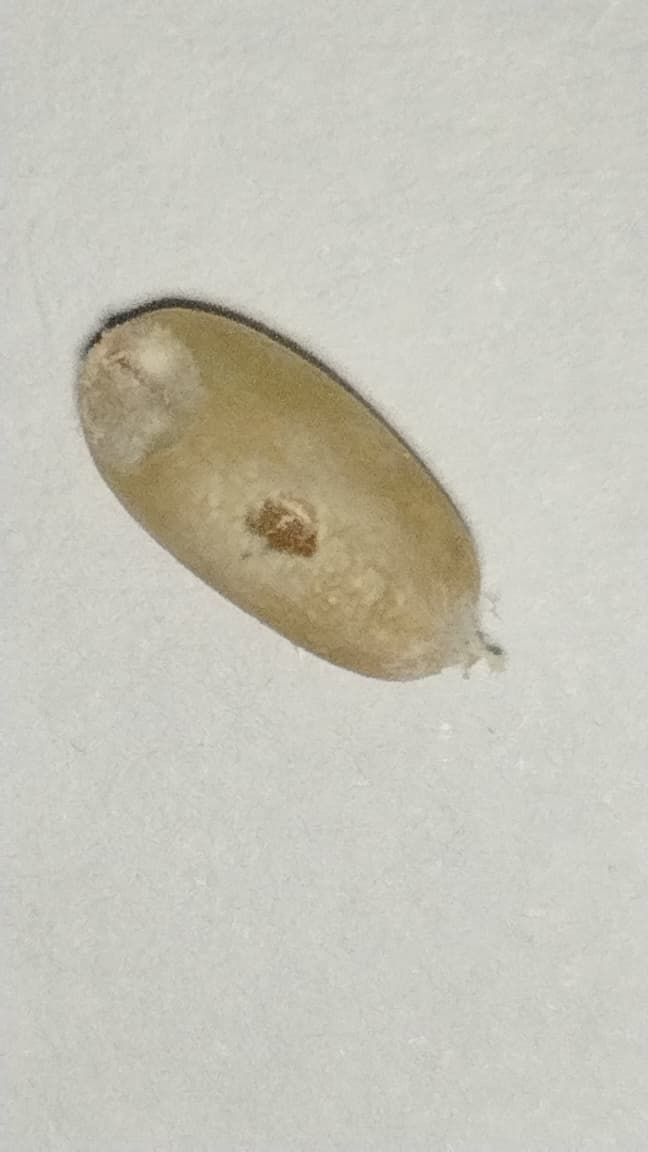damage: (79, 298, 482, 678)
insectdamage: (213, 495, 331, 610)
